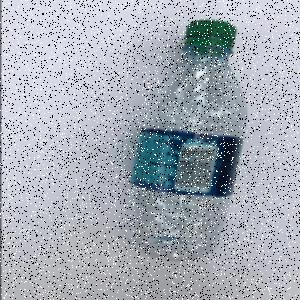Plastic-bottle: (125, 20, 250, 264)
